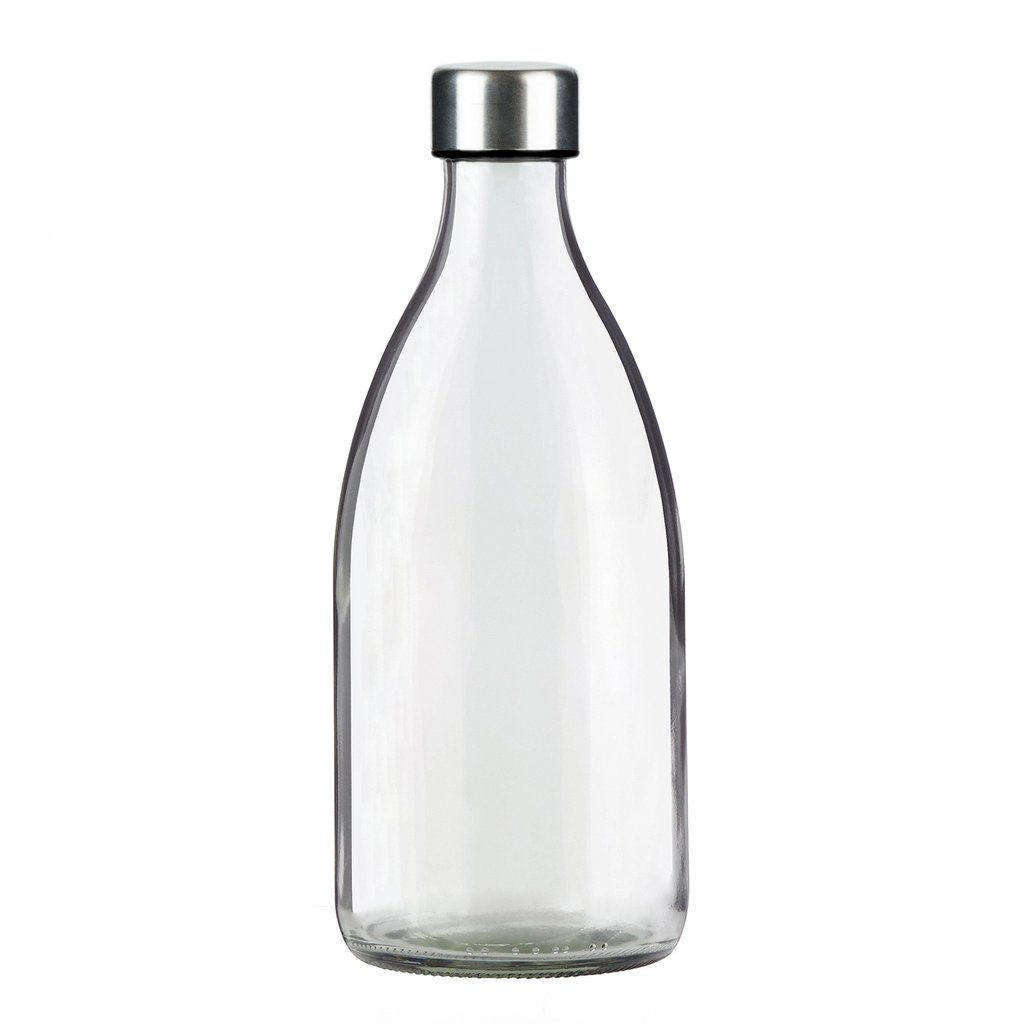emptybottle: (336, 61, 684, 978)
